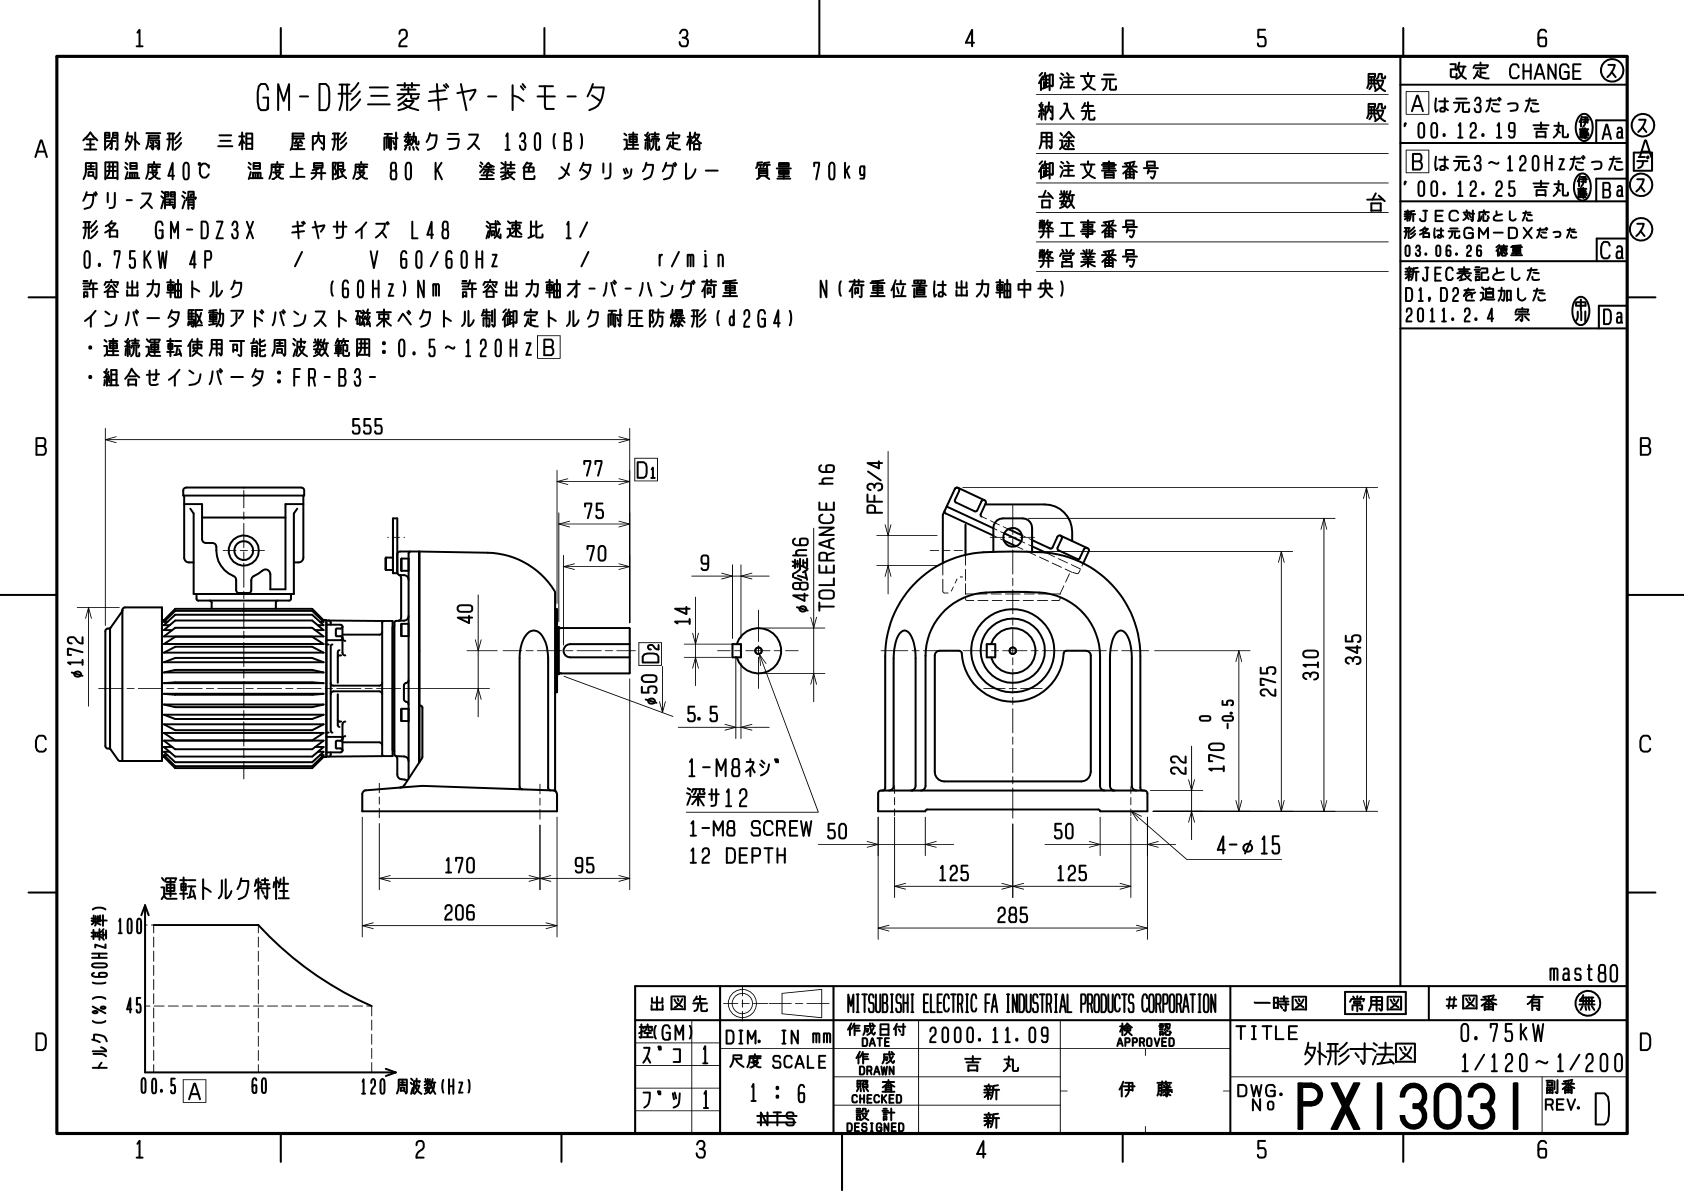GM_D_制御屋内_三相_脚: (61, 409, 1385, 969)
